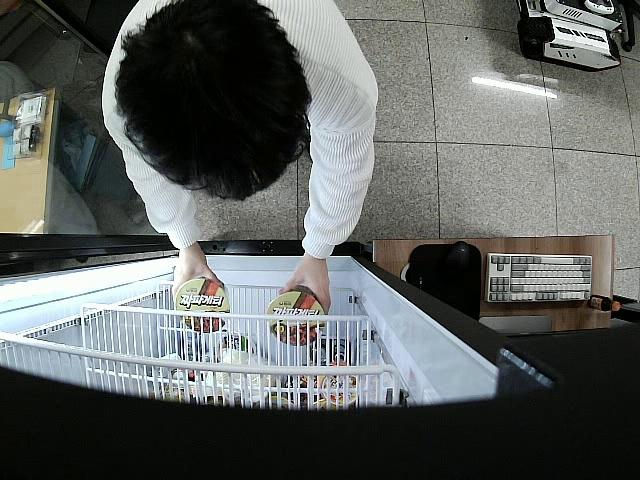00_hand: (281, 258, 333, 314), (169, 252, 224, 294)
03_chapagetti_L: (266, 288, 327, 347), (176, 279, 229, 332)
